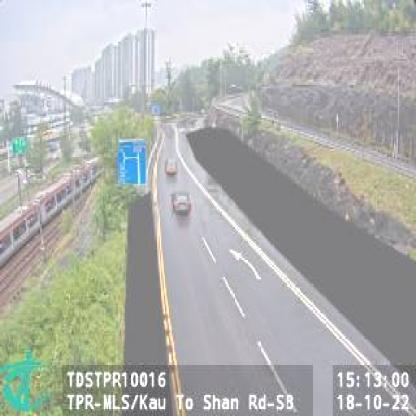Car: (170, 186, 193, 219), (164, 155, 178, 176)
